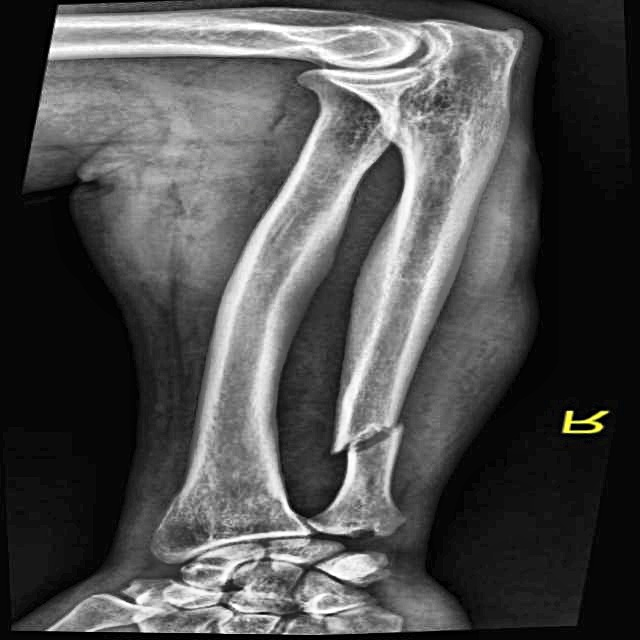Oblique Displaced: (301, 397, 460, 480)
